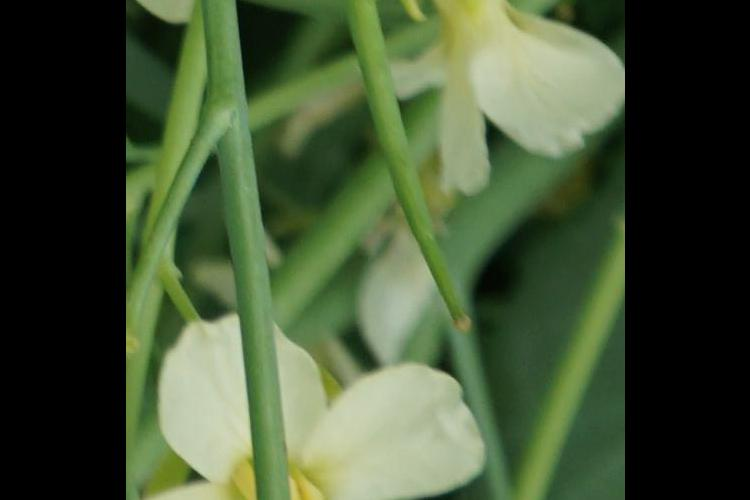white: (133, 320, 504, 500), (412, 1, 620, 167), (144, 1, 453, 55)
